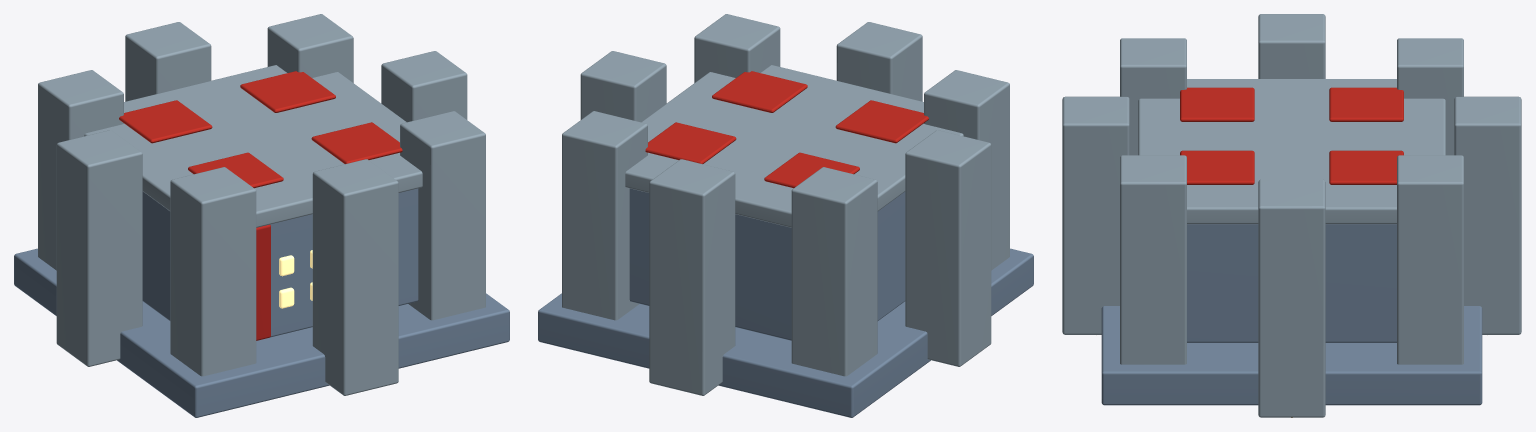
The picture shows the model from 3 angles, left to right: view 1: azimuth 30°, elevation 25°; view 2: azimuth 150°, elevation 25°; view 3: azimuth 270°, elevation 25°; orthographic projection. The views are drawn at different scales.
Parts seen in each view (by area): view 1: Block roof ledge, Block buttress.006, Block buttress.004, Foundation slab, Block buttress.005, Block buttress.007, Modular block storey, Block buttress.003, Block buttress.002, Block buttress, Block buttress.001, Roof recessed opening.003 (+4 smaller); view 2: Block roof ledge, Block buttress.002, Block buttress.004, Foundation slab, Block buttress.003, Block buttress.001, Modular block storey, Block buttress.005, Block buttress.006, Block buttress, Block buttress.007, Roof recessed opening.002 (+3 smaller); view 3: Block roof ledge, Foundation slab, Modular block storey, Block buttress, Block buttress.001, Block buttress.007, Block buttress.002, Block buttress.006, Block buttress.003, Block buttress.005, Block buttress.004, Roof recessed opening (+3 smaller).
Part boxes in pixels (left/top/right/bottom): Block roof ledge: left=84, top=65, right=422, bottom=227; Block buttress.006: left=312, top=159, right=398, bottom=395; Block buttress.004: left=56, top=130, right=142, bottom=366; Foundation slab: left=14, top=248, right=509, bottom=417; Block buttress.005: left=170, top=167, right=256, bottom=376; Block buttress.007: left=400, top=111, right=485, bottom=320; Modular block storey: left=142, top=188, right=418, bottom=337; Block buttress.003: left=38, top=70, right=123, bottom=270; Block buttress.002: left=125, top=22, right=211, bottom=101; Block buttress: left=381, top=51, right=467, bottom=122; Block buttress.001: left=267, top=14, right=353, bottom=82; Roof recessed opening.003: left=240, top=71, right=335, bottom=112; Block roof ledge: left=625, top=65, right=963, bottom=227; Block buttress.002: left=649, top=159, right=735, bottom=395; Block buttress.004: left=905, top=130, right=991, bottom=366; Foundation slab: left=538, top=248, right=1033, bottom=417; Block buttress.003: left=791, top=167, right=877, bottom=376; Block buttress.001: left=562, top=111, right=647, bottom=320; Modular block storey: left=629, top=188, right=905, bottom=340; Block buttress.005: left=924, top=70, right=1009, bottom=270; Block buttress.006: left=836, top=22, right=922, bottom=101; Block buttress: left=580, top=51, right=666, bottom=122; Block buttress.007: left=694, top=14, right=780, bottom=82; Roof recessed opening.002: left=712, top=71, right=807, bottom=112; Block roof ledge: left=1138, top=79, right=1445, bottom=224; Foundation slab: left=1101, top=306, right=1482, bottom=405; Modular block storey: left=1187, top=224, right=1396, bottom=342; Block buttress: left=1258, top=179, right=1325, bottom=417; Block buttress.001: left=1397, top=155, right=1463, bottom=364; Block buttress.007: left=1120, top=155, right=1186, bottom=364; Block buttress.002: left=1454, top=96, right=1521, bottom=334; Block buttress.006: left=1062, top=96, right=1129, bottom=334; Block buttress.003: left=1397, top=38, right=1463, bottom=155; Block buttress.005: left=1120, top=38, right=1186, bottom=155; Block buttress.004: left=1258, top=14, right=1325, bottom=78; Roof recessed opening: left=1180, top=87, right=1254, bottom=121.
Bounding box in the file's own units: 2.46 × 1.27 × 2.46.
